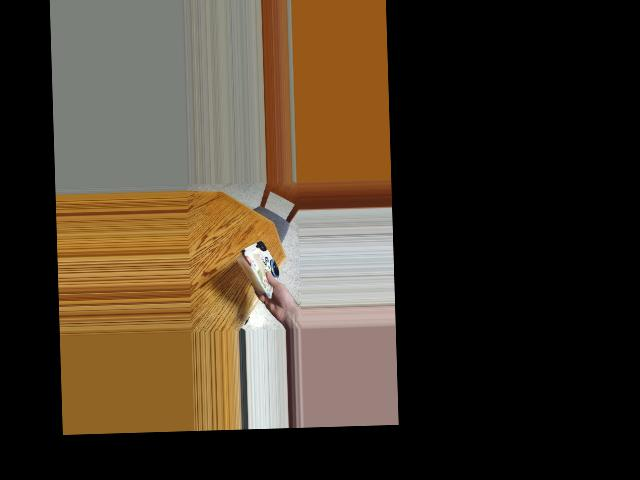cheese: (231, 242, 287, 290)
